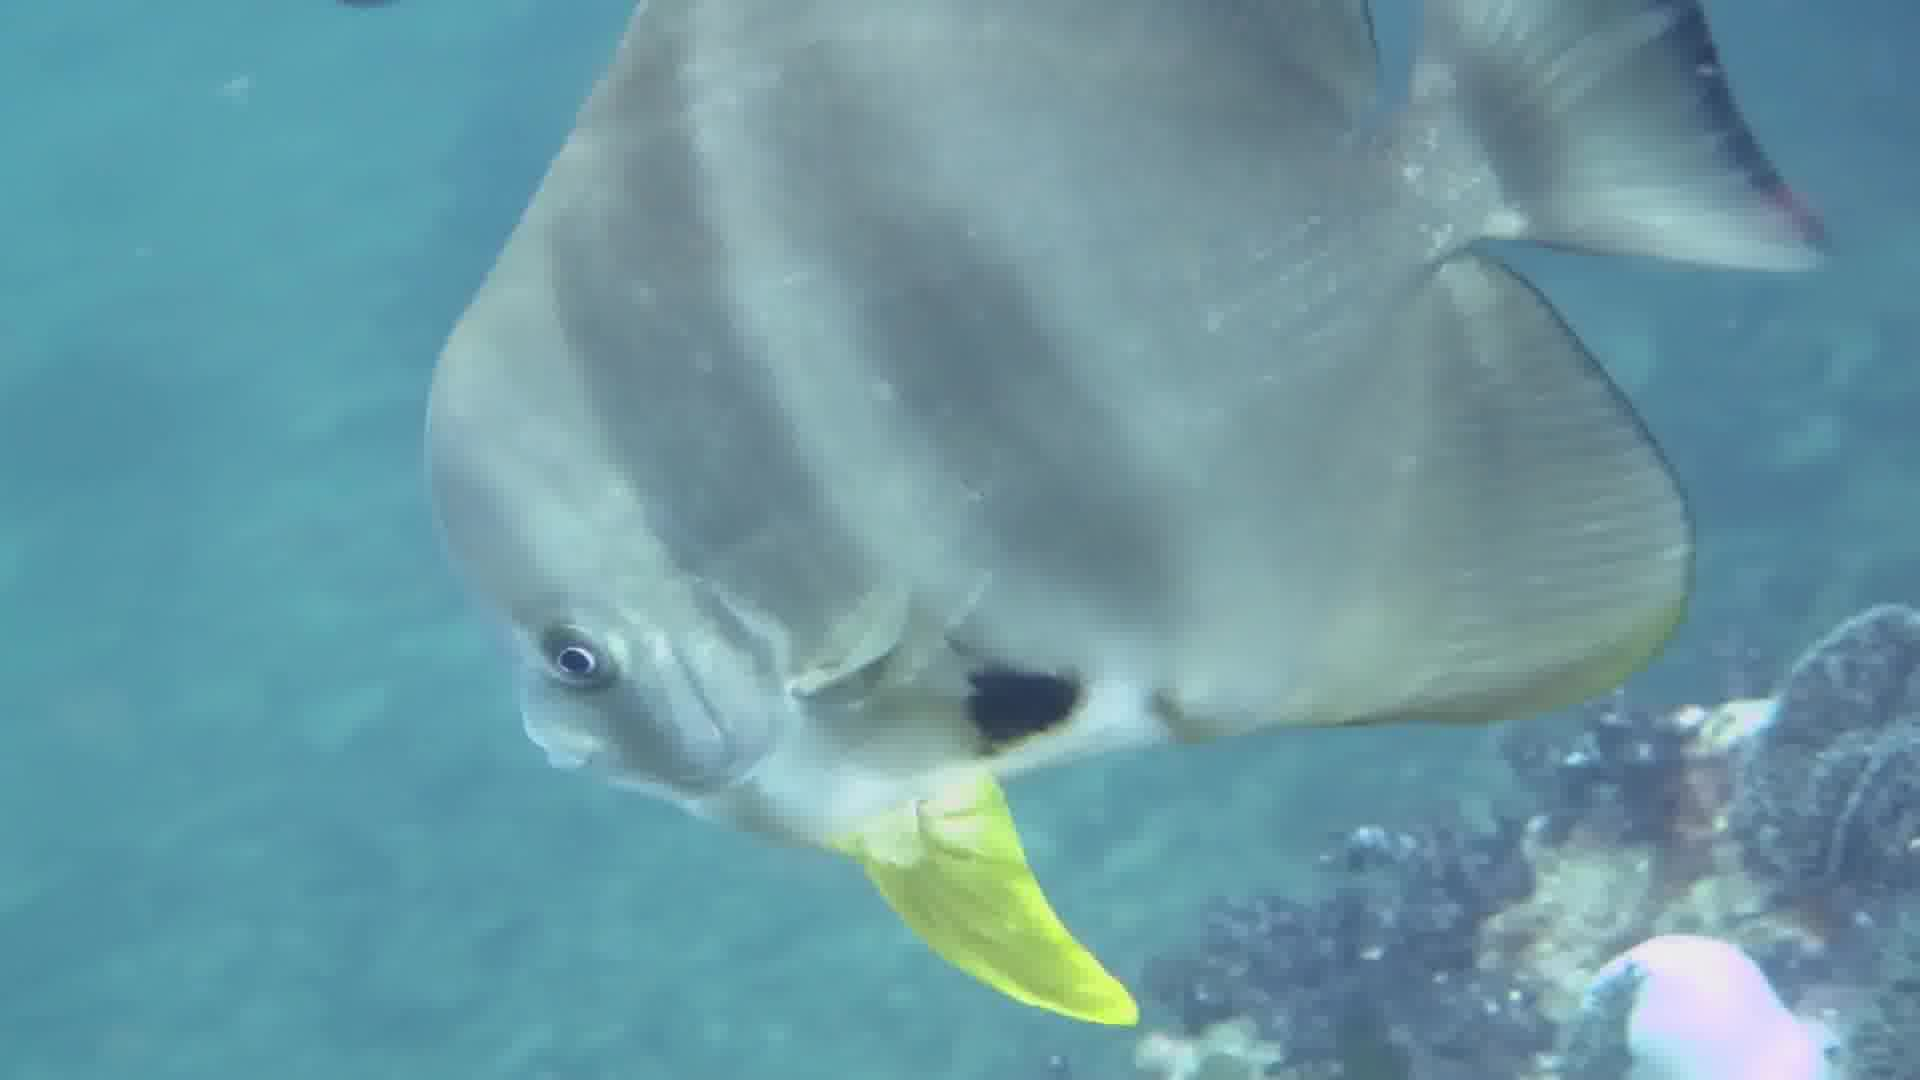Platax teira: (401, 1, 1865, 1033)
